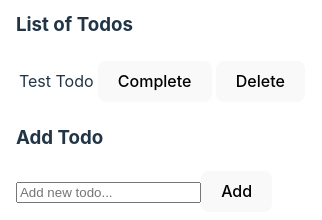
Scenario: TodoList Component › deletes a todo
Expected: the text "Test Todo" is shown, x1=19 y1=71 x2=94 y2=91
What coordinates should you click on to do the following:
click the button "Delete"
I would click on:
 (260, 81)
Its box is x1=216 y1=61 x2=305 y2=102.
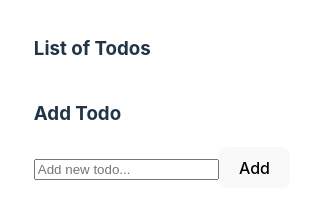
Expected: the text "Test Todo" is gone
